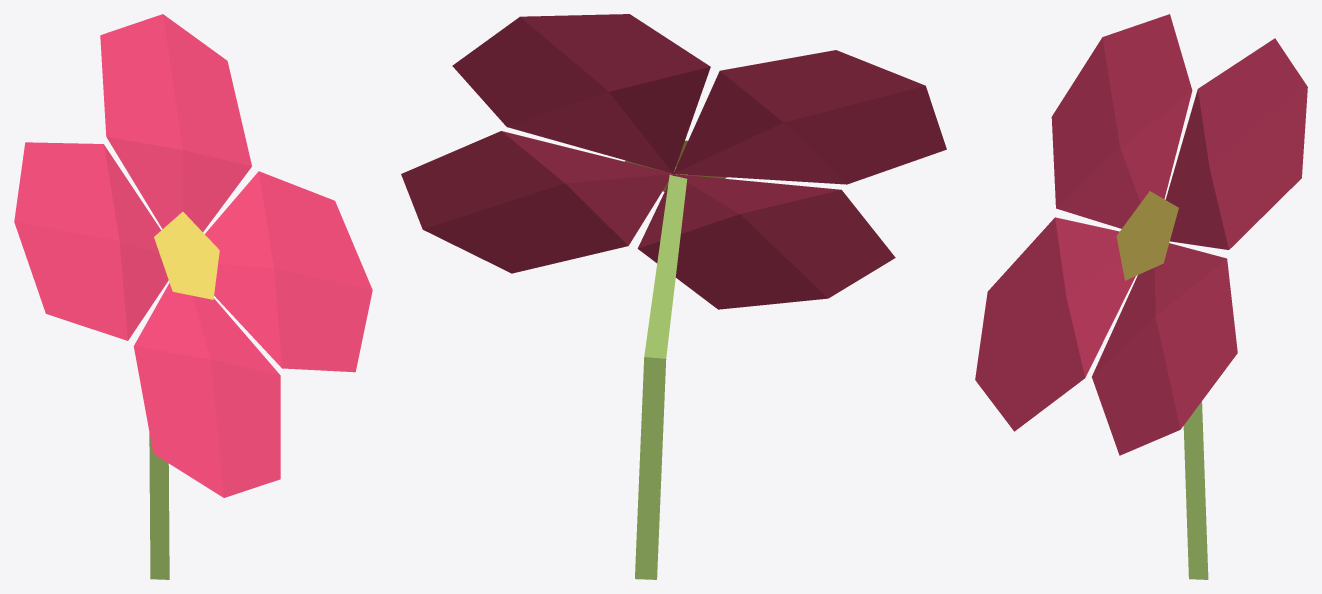
The model's file is Flower_c_OneS_08.fbx.
3 renders of one model, left to right at view 1: azimuth 30°, elevation 25°; view 2: azimuth 150°, elevation 25°; view 3: azimuth 270°, elevation 25°, orthographic. The views are drawn at different scales.
Visible parts, largest first — view 1: Flower_c_OneS_08; view 2: Flower_c_OneS_08; view 3: Flower_c_OneS_08.
Part boxes in pixels (left/top/right/bottom): Flower_c_OneS_08: left=14, top=14, right=372, bottom=579; Flower_c_OneS_08: left=401, top=14, right=946, bottom=579; Flower_c_OneS_08: left=975, top=14, right=1307, bottom=579.
Size of the model in its own units: 28.78 by 36.03 by 20.59.
